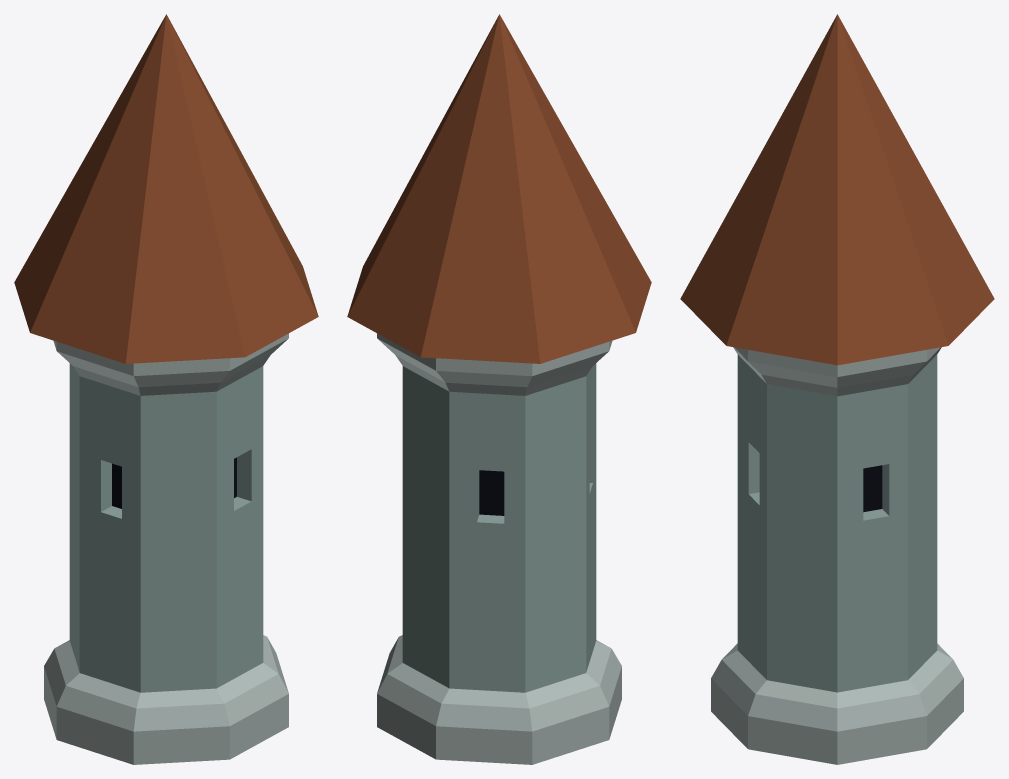
Rendered from TowerWithRoof 1.fbx.
The picture shows the model from 3 angles, left to right: view 1: azimuth 30°, elevation 25°; view 2: azimuth 150°, elevation 25°; view 3: azimuth 270°, elevation 25°; orthographic projection.
Visible parts, largest first — view 1: Cone; view 2: Cone; view 3: Cone.
Boxes of the visible parts, x1,y1,x2,y2 form: Cone: [14, 14, 318, 764]; Cone: [347, 14, 651, 764]; Cone: [680, 14, 994, 764].
Size of the model in its own units: 213 by 521 by 213.
